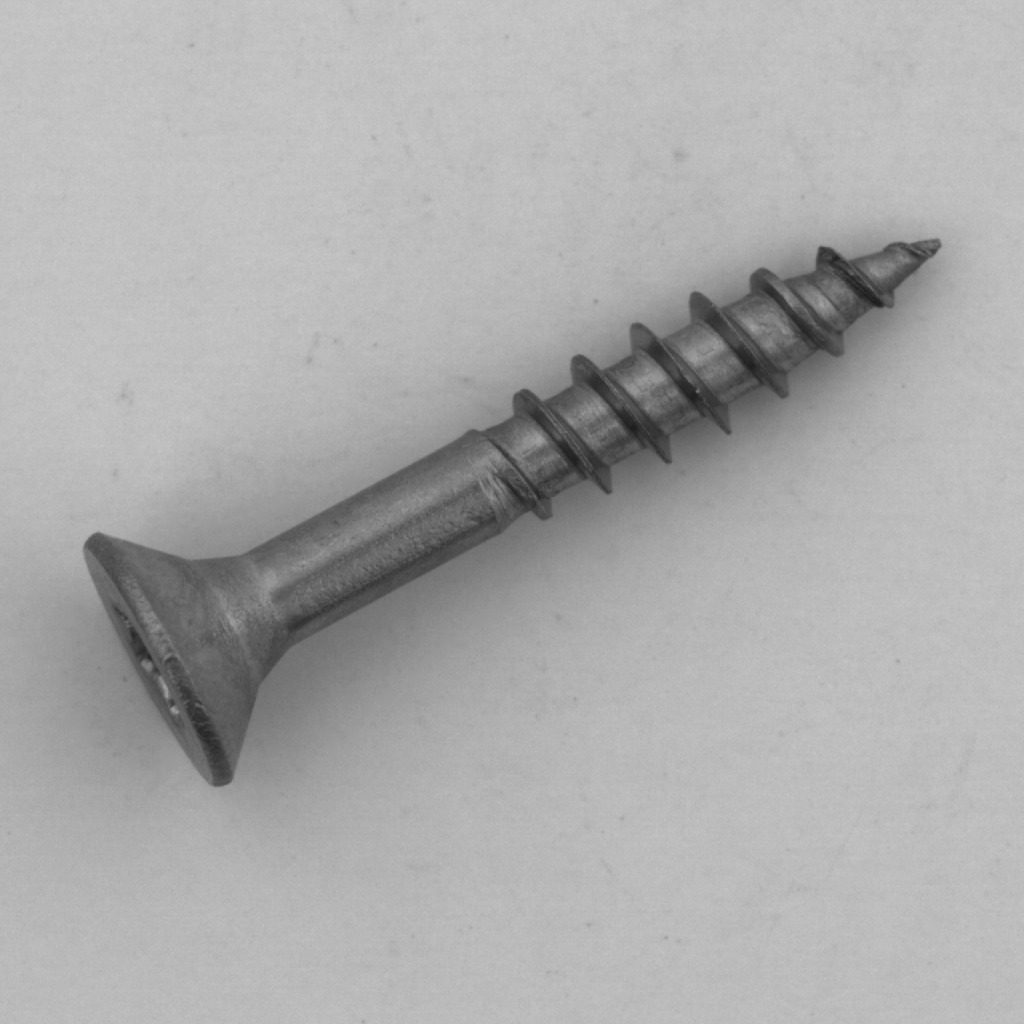good: (73, 205, 968, 809)
